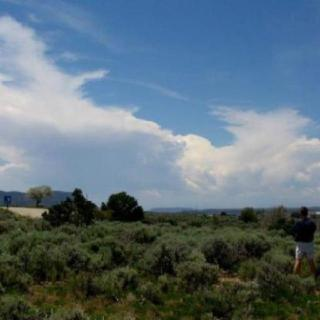Cirrostratus: (0, 0, 320, 218)
